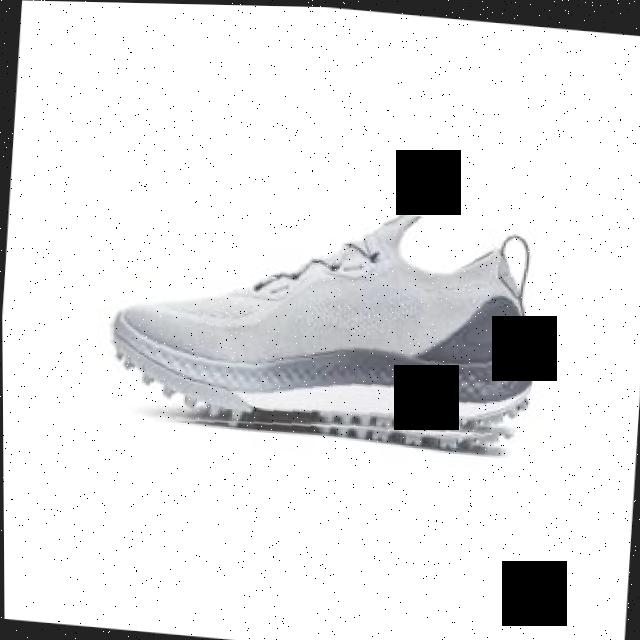shoe: (102, 187, 543, 454)
